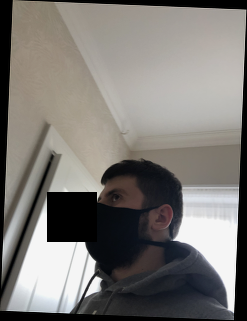with_mask: (83, 183, 145, 267)
